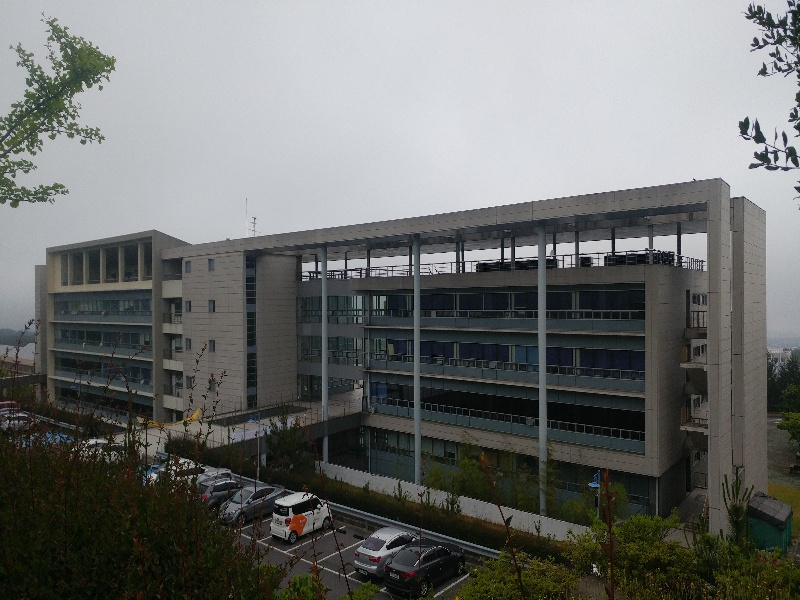Engineering College Building 4: (15, 212, 771, 432), (328, 182, 775, 512)
